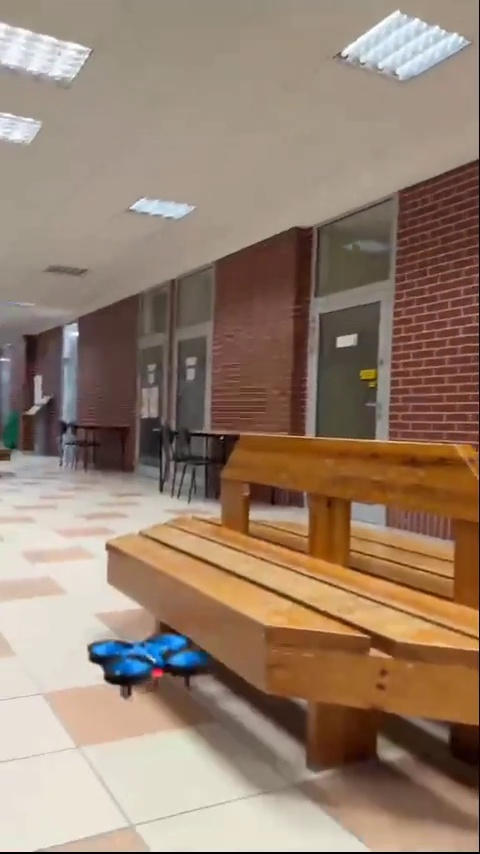drone: (87, 638, 209, 691)
